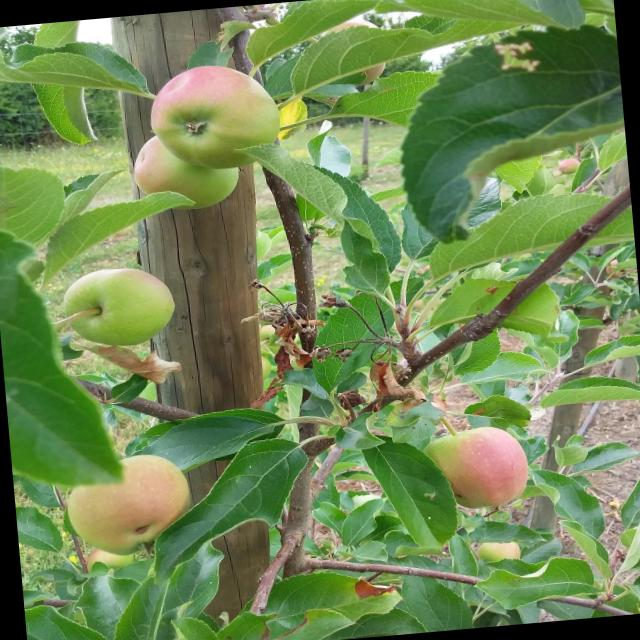-FireBlight-: (256, 293, 314, 381), (368, 351, 414, 402)
